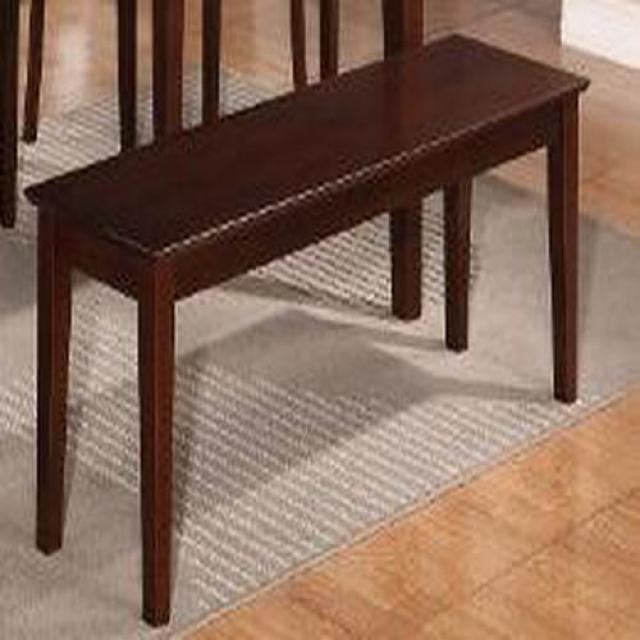table: (24, 35, 591, 628)
